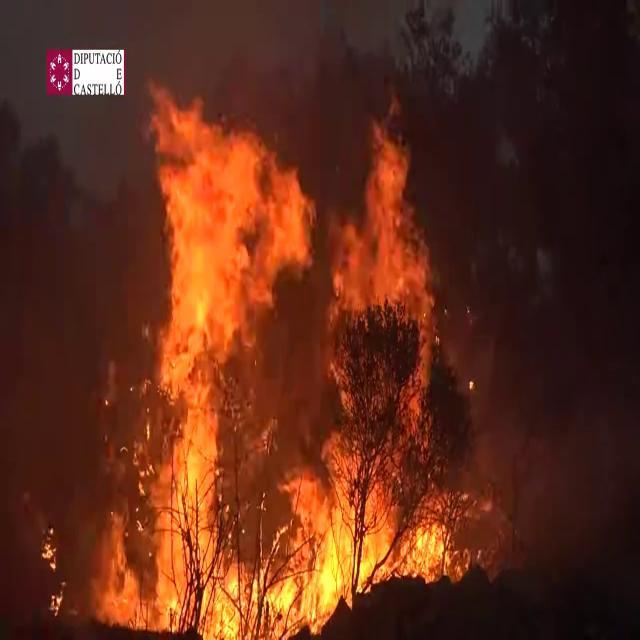Fire: (106, 73, 469, 638)
